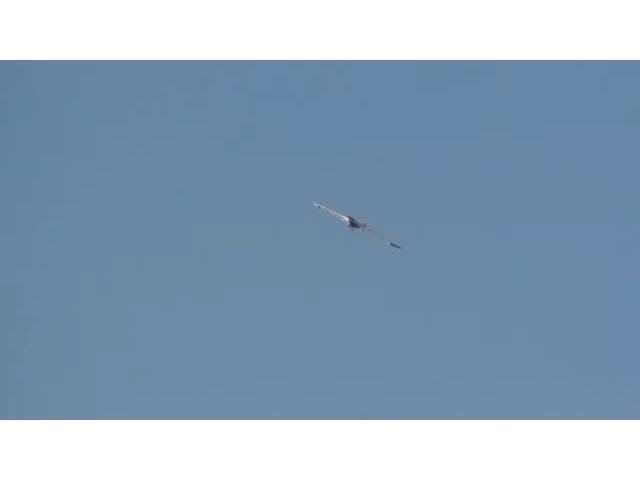Anti-Drone: (314, 202, 402, 250)
